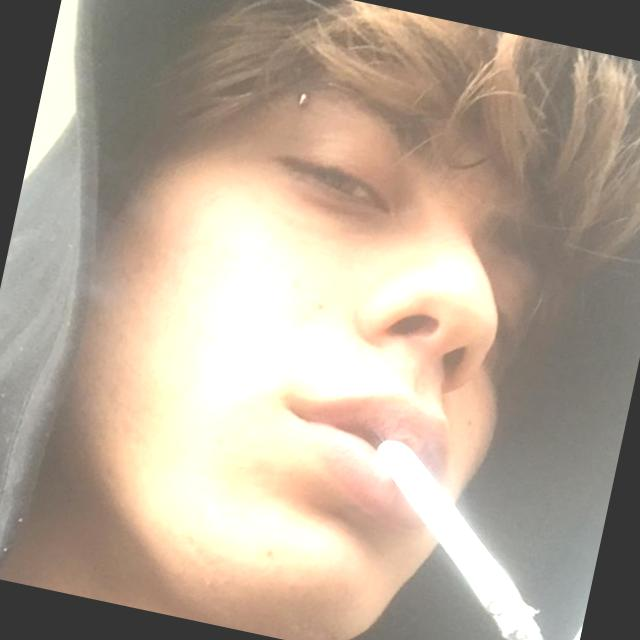cigarette: (336, 431, 587, 640)
